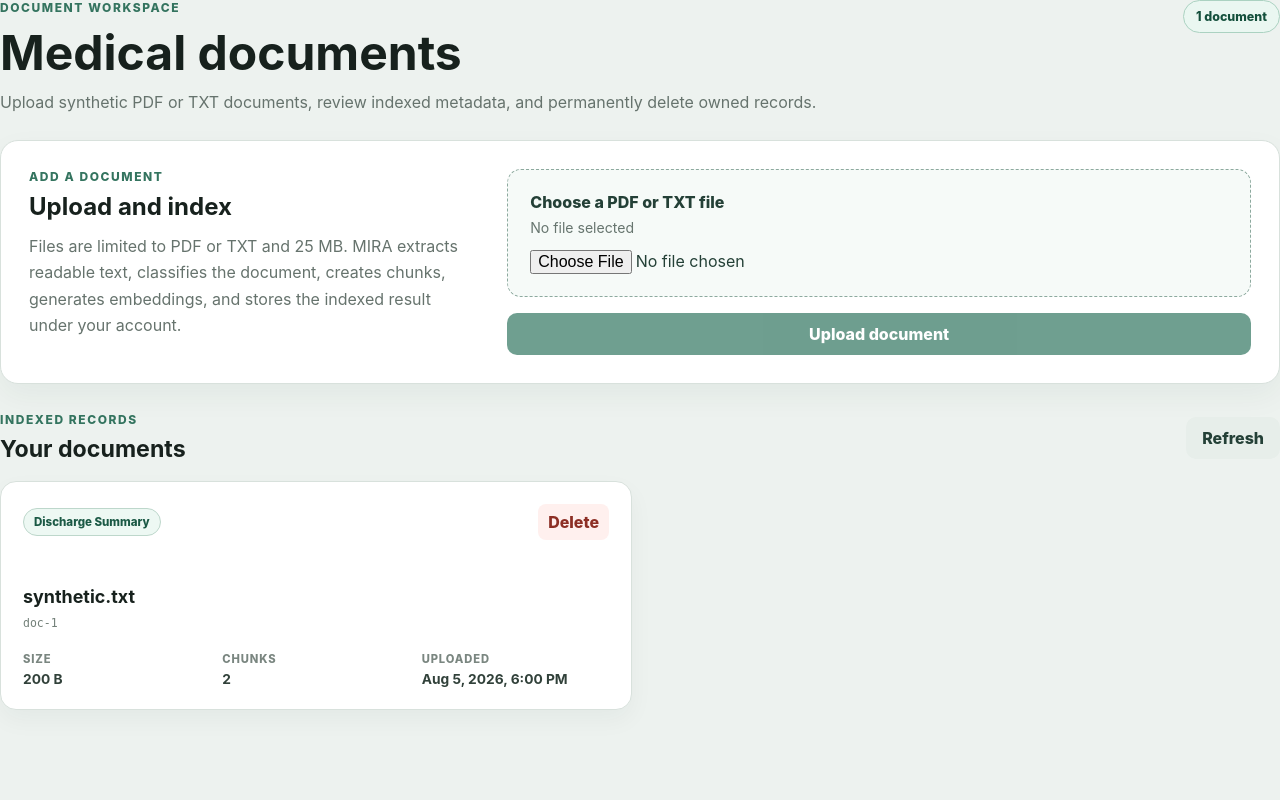
Test: DocumentsPage › permanently deletes a document after confirmation
The width and height of the screenshot is (1280, 800).
Check: the heading "synthetic.txt" is shown, box [23,586,135,607]
Click the button with aria-label "Delete synthetic.txt": (574, 522) [538,504,609,540]
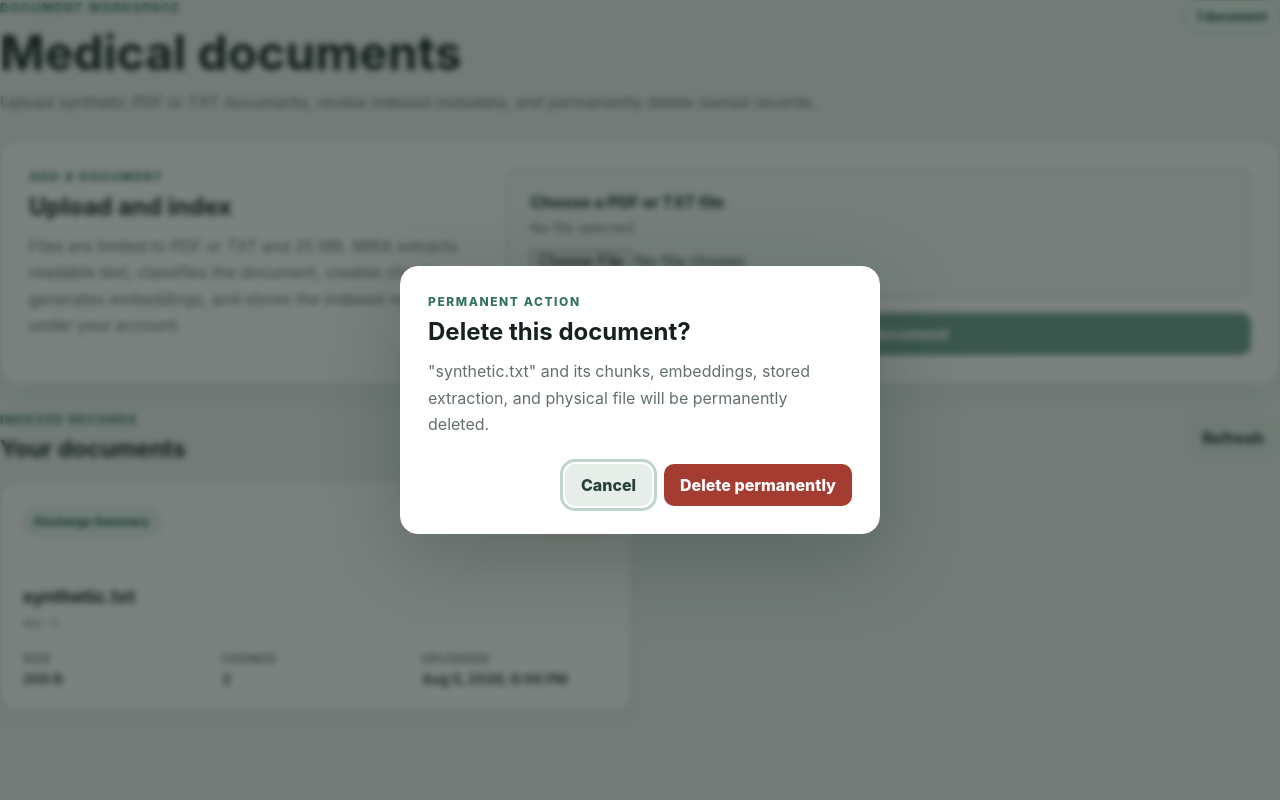
Click the button "Delete permanently": (758, 485) [664,464,852,506]
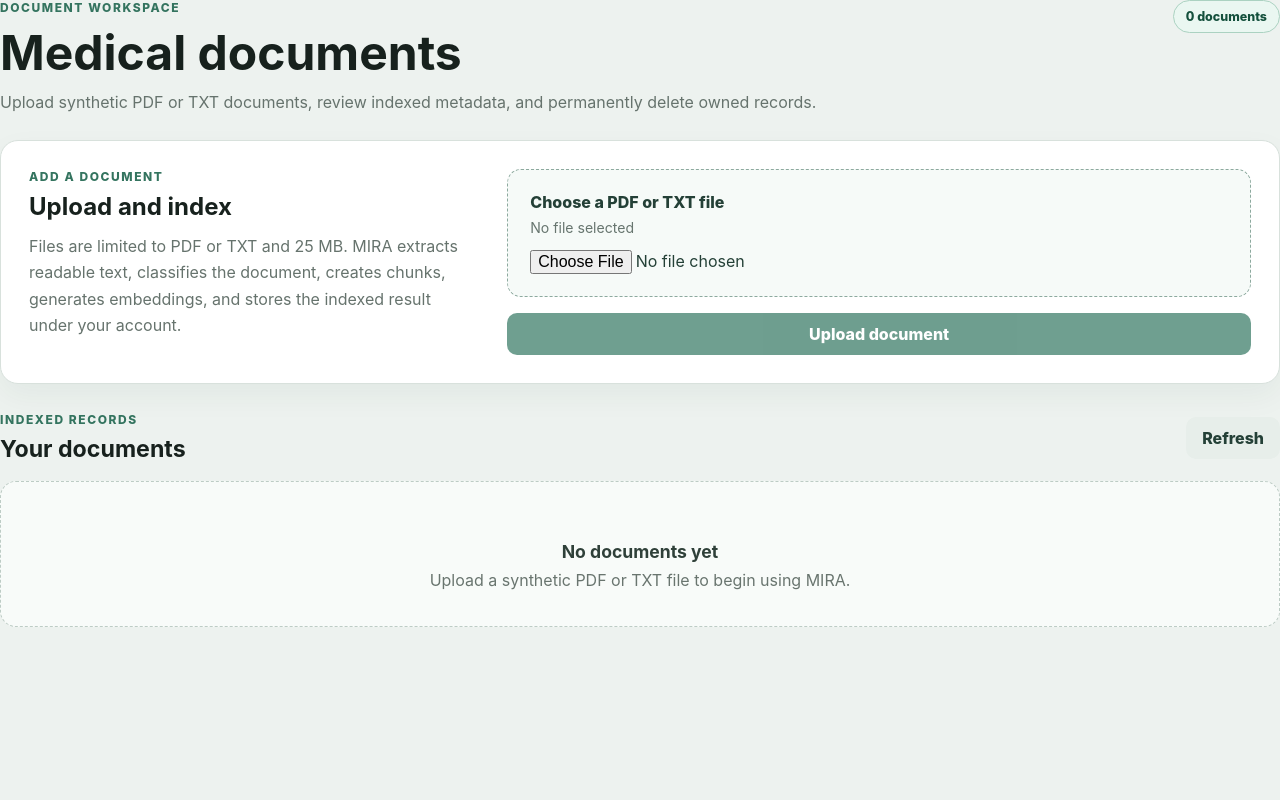
Check: the heading "No documents yet" is shown, box [562,541,718,562]
